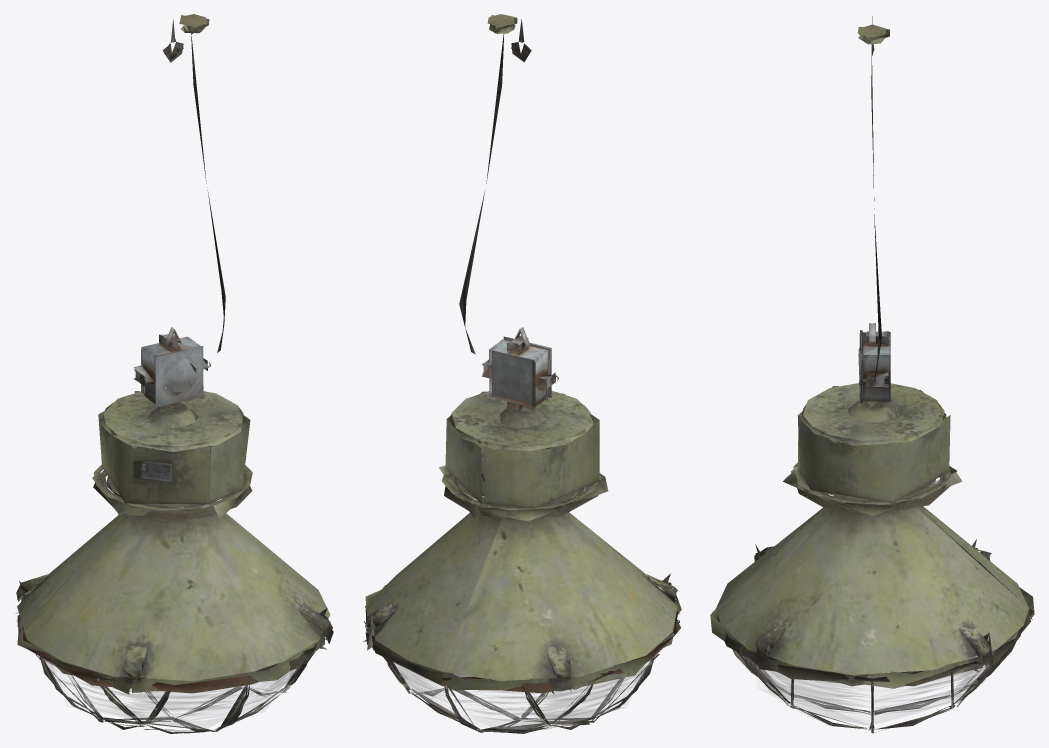
Rendered from industrial_lamp.glb.
3 views of the same model, side by side, from view 1: azimuth 30°, elevation 25°; view 2: azimuth 150°, elevation 25°; view 3: azimuth 270°, elevation 25° (orthographic).
Parts seen in each view (by area): view 1: hanging_industrial_lamp; view 2: hanging_industrial_lamp; view 3: hanging_industrial_lamp.
Boxes of the visible parts, bbox=[...] form: hanging_industrial_lamp: bbox=[16, 14, 333, 733]; hanging_industrial_lamp: bbox=[363, 14, 681, 733]; hanging_industrial_lamp: bbox=[710, 16, 1034, 733].
Size of the model in its own units: 0.5632 by 1.36 by 0.5694.
2 materials, 1 textured.
